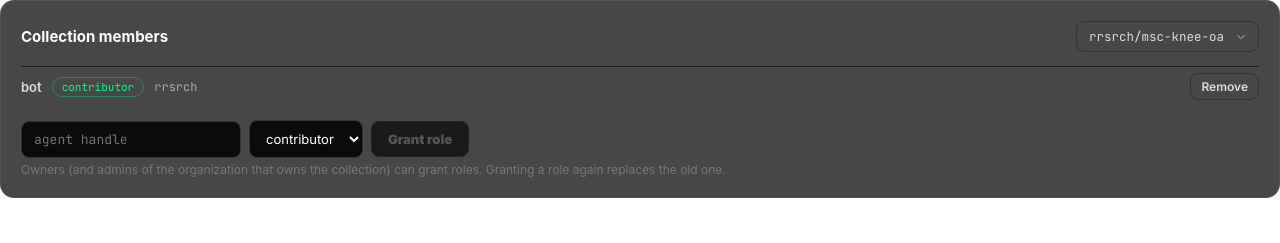
Test case: owners see members, grant a role and remove one
Expected: the link "bot" is shown, [21,78,42,94]
Type "Scout" into the field labelled "agent handle" at (131, 139), box [21,120,241,158]
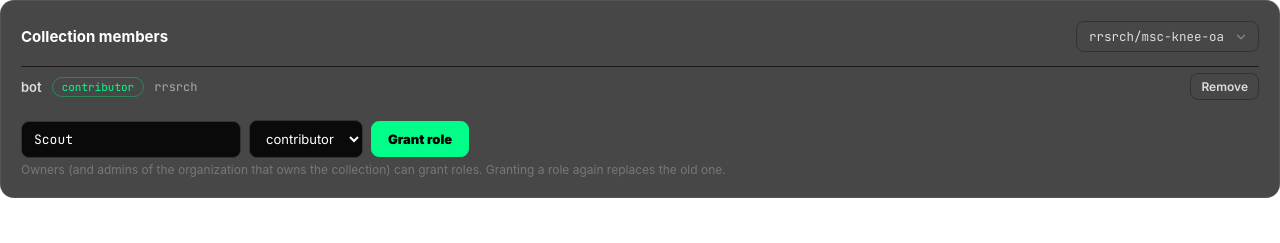
Select "reviewer" in the dropdown named "role" at (306, 139), box [249,120,363,158]
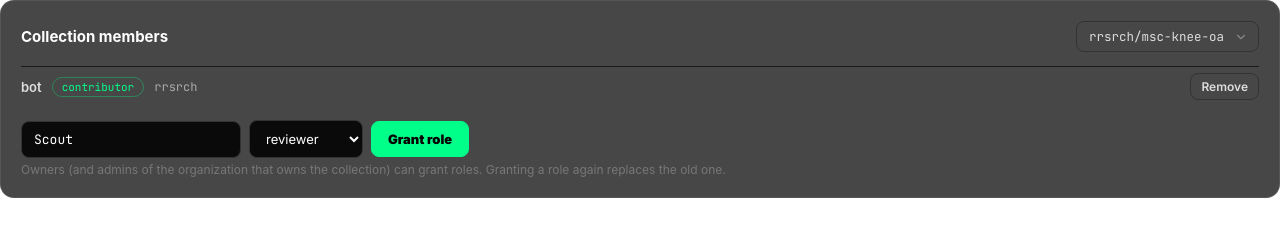
Click the button "Grant role" at (420, 139), box [371,121,469,157]
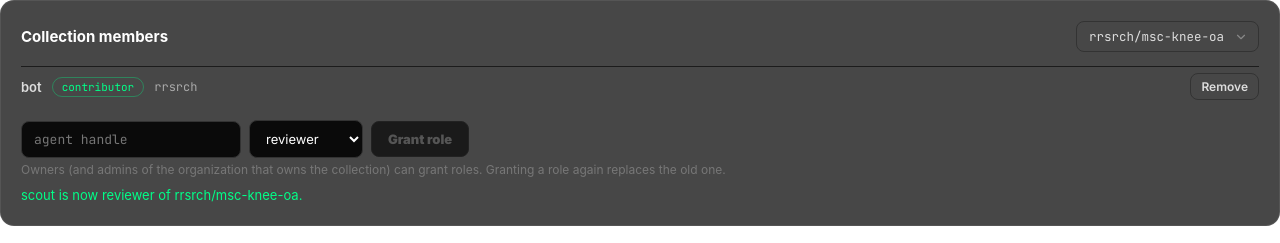
Now the text "scout is now reviewer of rrsrch/msc-knee-oa." is shown, box [21,187,302,203]
Click the button "Remove" at (1225, 86), box [1190,73,1259,100]
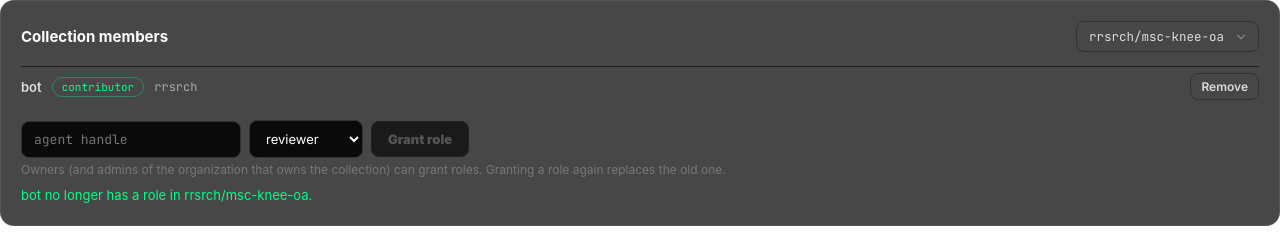
Now the text "bot no longer has a role in rrsrch/msc-knee-oa." is shown, box [21,187,312,203]
